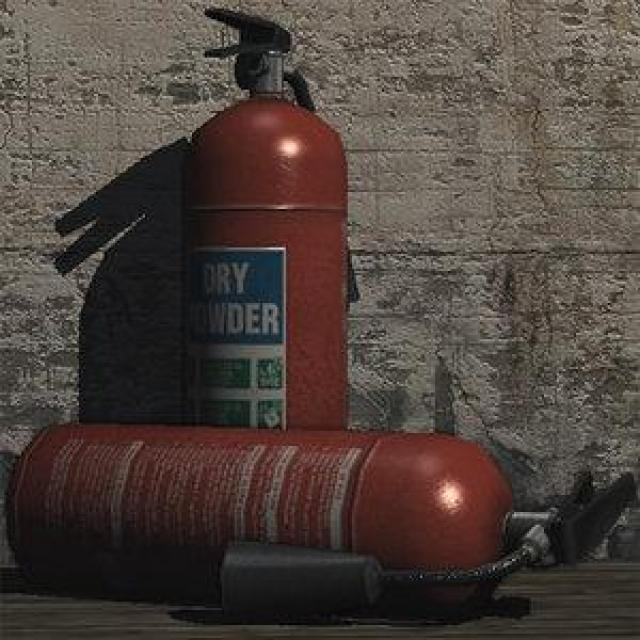fire_extinguisher: (0, 416, 636, 631), (173, 1, 358, 613)
